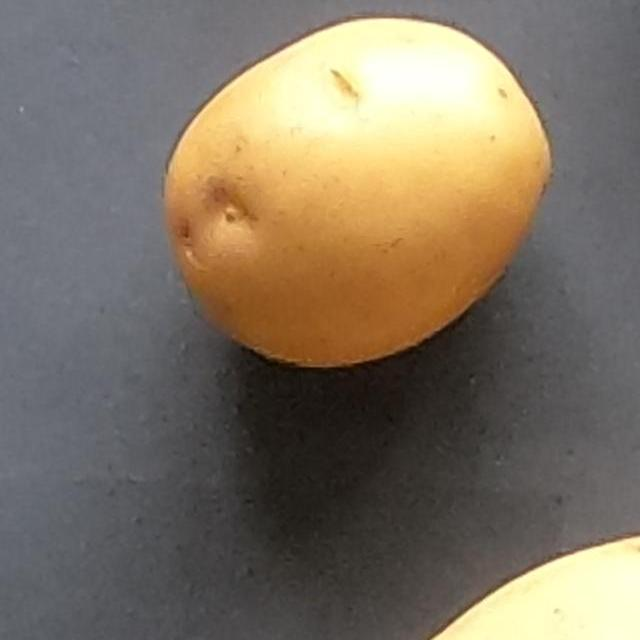potato: (117, 0, 587, 422)
